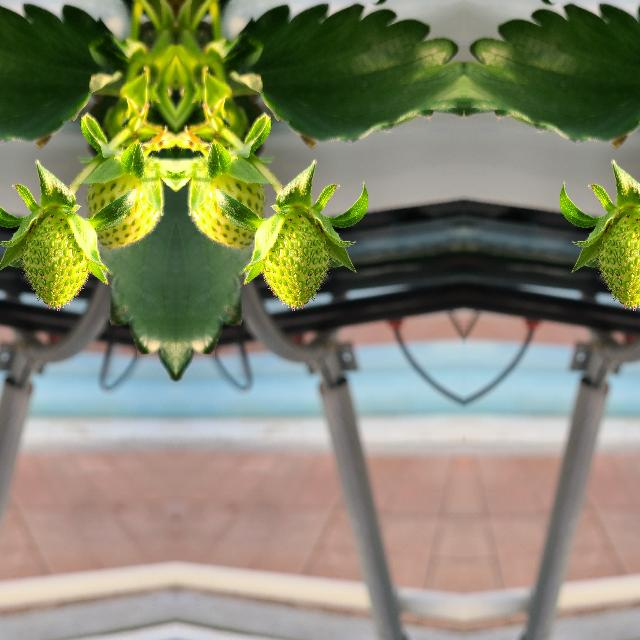Health_25: (188, 158, 264, 248), (86, 158, 162, 248), (260, 214, 328, 308), (22, 214, 90, 308), (598, 214, 640, 308)
